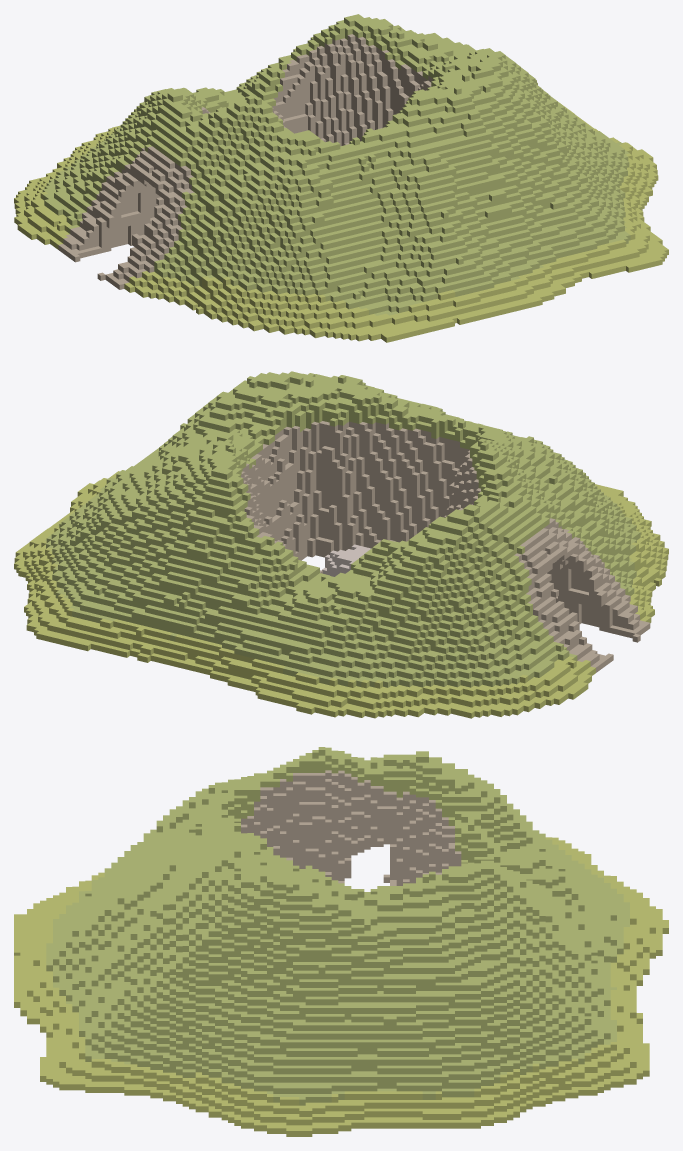
File: Cueva.fbx
3 views of the same model, one above another, from view 1: azimuth 30°, elevation 25°; view 2: azimuth 150°, elevation 25°; view 3: azimuth 270°, elevation 25° (orthographic). The views are drawn at different scales.
Parts seen in each view (by area): view 1: cueva_112x29x101; view 2: cueva_112x29x101; view 3: cueva_112x29x101.
Boxes of the visible parts, x1,y1,x2,y2 form: cueva_112x29x101: (14, 14, 668, 342); cueva_112x29x101: (14, 371, 668, 718); cueva_112x29x101: (14, 747, 668, 1136).
Size of the model in its own units: 1009 by 261 by 910.
